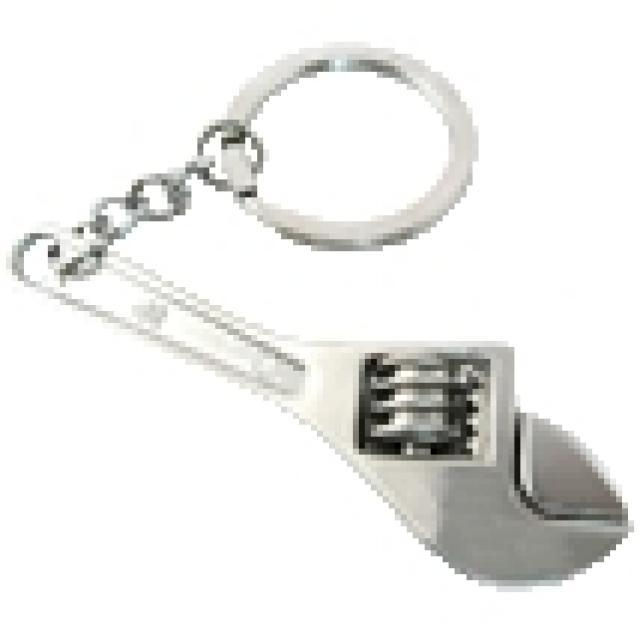wrench: (11, 249, 640, 595)
